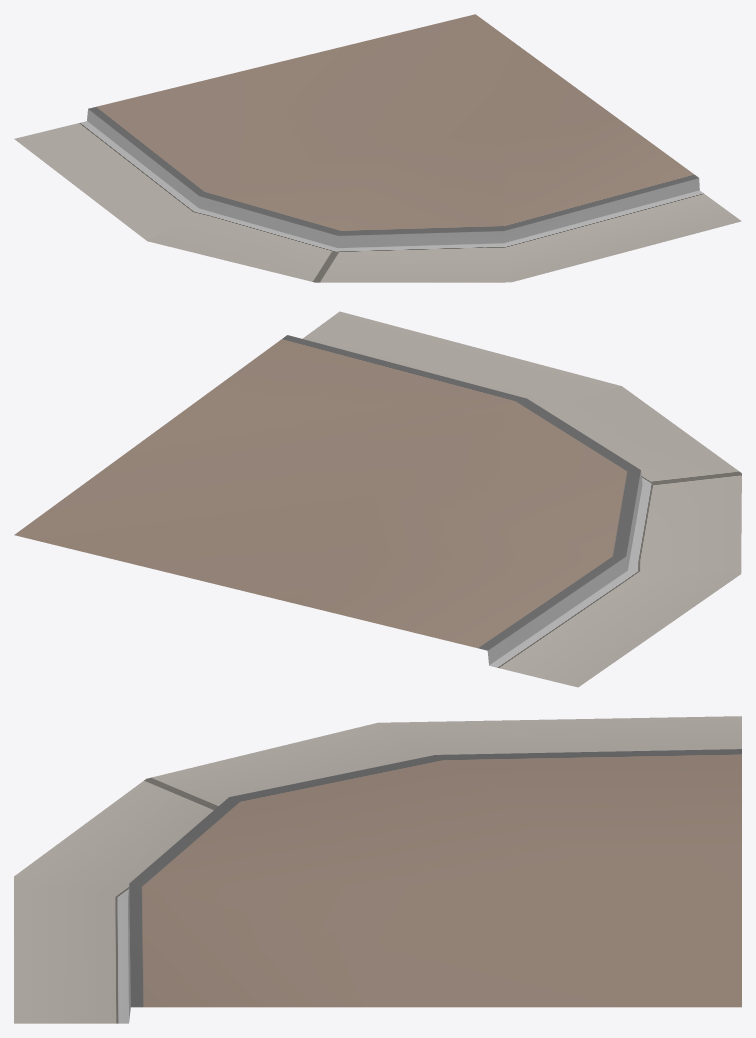
File: island_corner.fbx
3 views of the same model, one above another, from view 1: azimuth 30°, elevation 25°; view 2: azimuth 150°, elevation 25°; view 3: azimuth 270°, elevation 25° (orthographic). The views are drawn at different scales.
Parts seen in each view (by area): view 1: island_tile_corner; view 2: island_tile_corner; view 3: island_tile_corner.
Boxes of the visible parts, x1,y1,x2,y2 form: island_tile_corner: (14,14,741,282); island_tile_corner: (14,311,741,687); island_tile_corner: (14,716,741,1023).
Size of the model in its own units: 4 by 0.1399 by 4.
